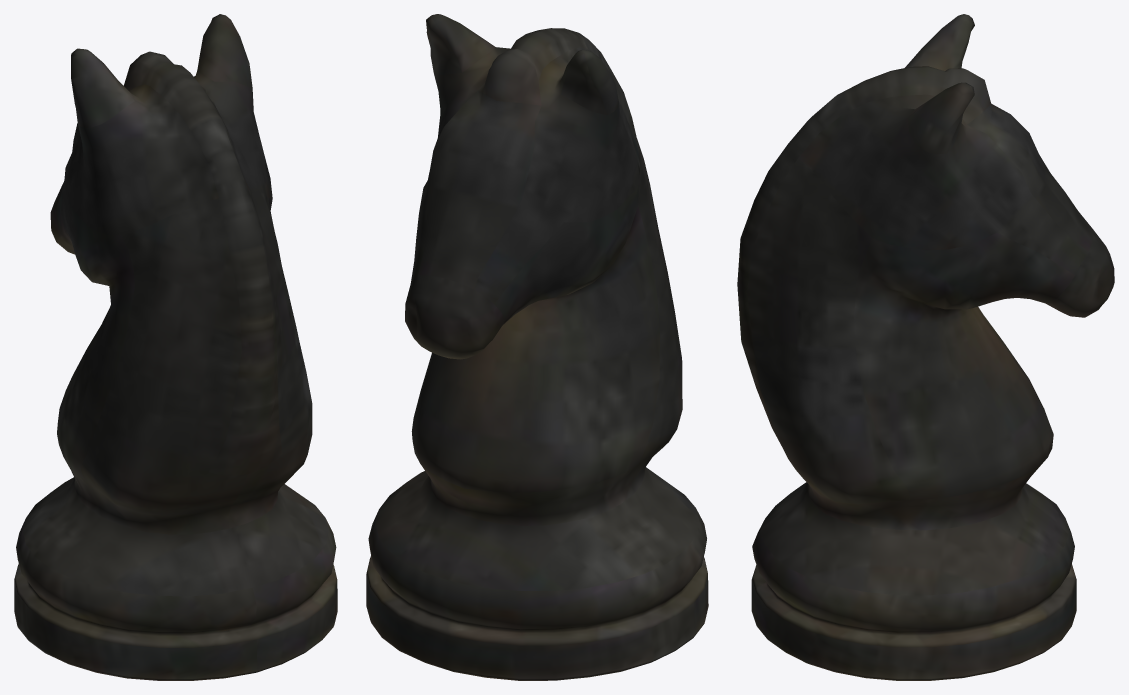
File: knight_black.glb
3 views of the same model, side by side, from view 1: azimuth 30°, elevation 25°; view 2: azimuth 150°, elevation 25°; view 3: azimuth 270°, elevation 25° (orthographic). The views are drawn at different scales.
Visible parts, largest first — view 1: piece_knight_black_01; view 2: piece_knight_black_01; view 3: piece_knight_black_01.
Boxes of the visible parts, x1,y1,x2,y2 form: piece_knight_black_01: (14,14,337,680); piece_knight_black_01: (366,14,708,680); piece_knight_black_01: (737,14,1114,680).
Bounding box in the file's own units: 0.0388 × 0.075 × 0.0454.
1 material, 1 textured.
